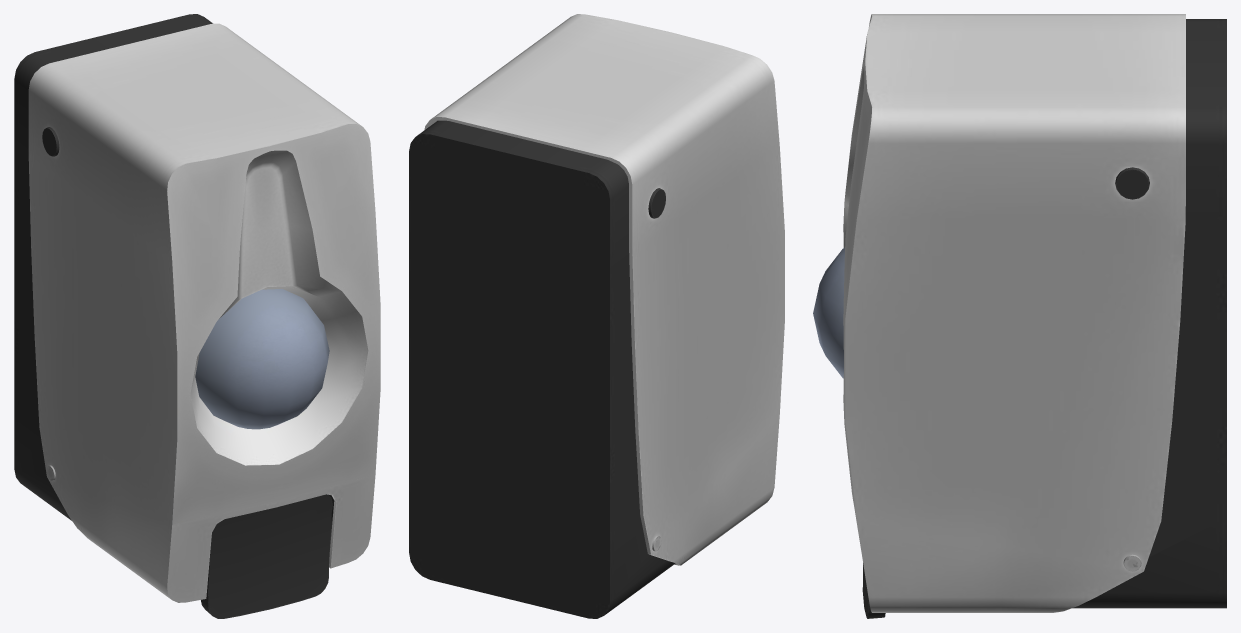
Rendered from soap_dispenser.glb.
3 renders of one model, left to right at view 1: azimuth 30°, elevation 25°; view 2: azimuth 150°, elevation 25°; view 3: azimuth 270°, elevation 25°, orthographic. The views are drawn at different scales.
Parts seen in each view (by area): view 1: Body, TransparentPlastic, HandPress; view 2: Body; view 3: Body, TransparentPlastic, PressHinge.
Part boxes in pixels (x1,y1,x2,y2): Body: (14,14,380,602); TransparentPlastic: (195,289,329,429); HandPress: (201,494,332,618); Body: (409,14,784,618); Body: (843,14,1226,612); TransparentPlastic: (813,247,844,378); PressHinge: (1115,167,1149,199).
Bounding box in the file's own units: 15.72 × 33.4 × 23.65.
1 material, 1 textured.
